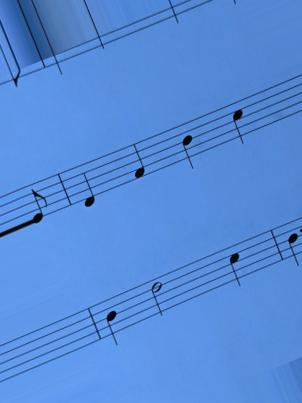note: (225, 239, 249, 295), (77, 160, 101, 215), (101, 296, 123, 350), (179, 118, 199, 174), (127, 140, 150, 187), (229, 96, 249, 150), (283, 220, 301, 272)
